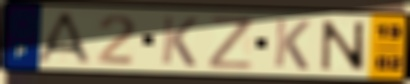2: (96, 13, 138, 67)
A: (34, 11, 94, 66)
K: (158, 14, 200, 69), (271, 17, 312, 72)
N: (319, 19, 368, 73)
Z: (207, 14, 255, 71)
